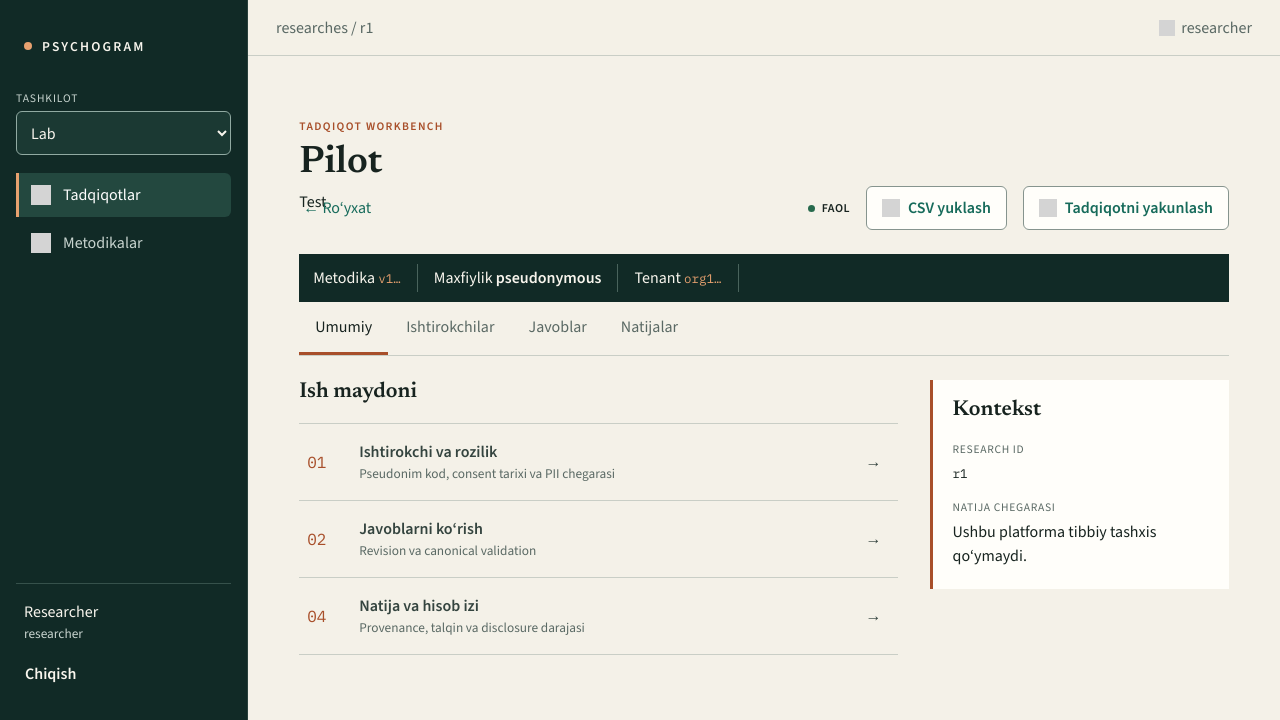
Test: research lifecycle › shows how many responses are uncalculated and closes only on explicit confirmation
Click the button "Tadqiqotni yakunlash": (1126, 208) [1023,186,1229,230]
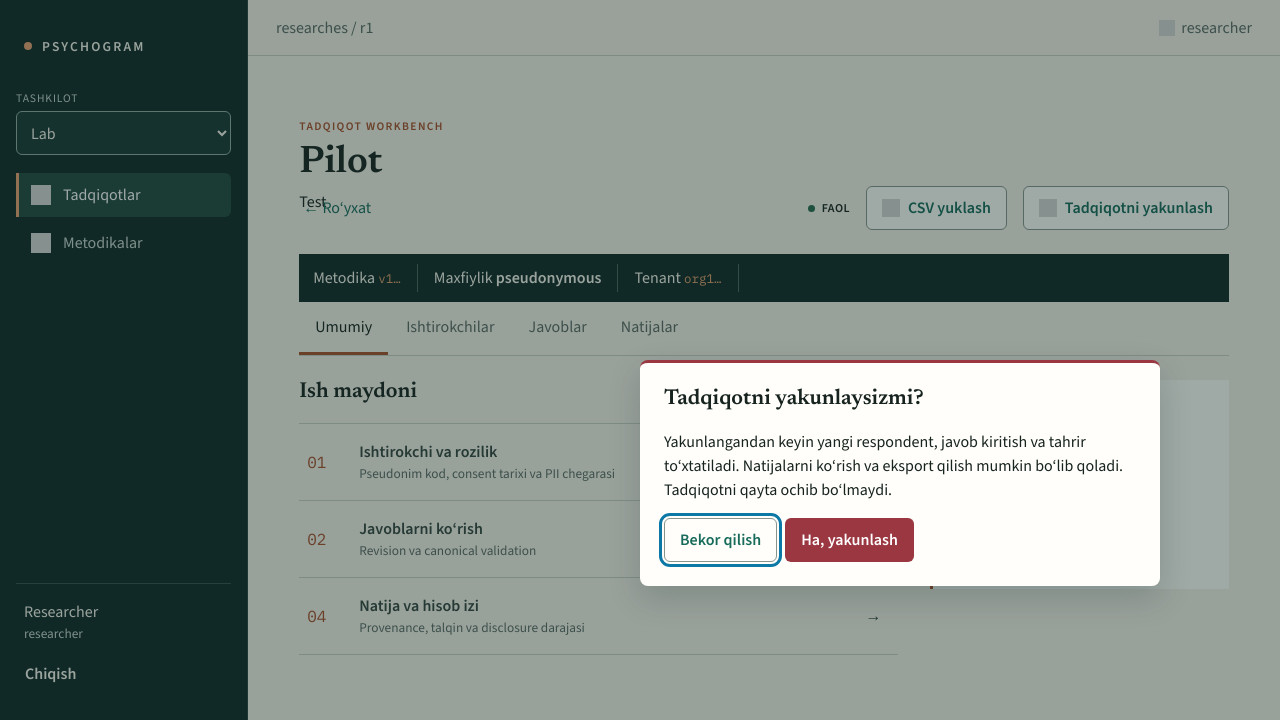
Click the button "Ha, yakunlash": (850, 540) [785,518,914,562]
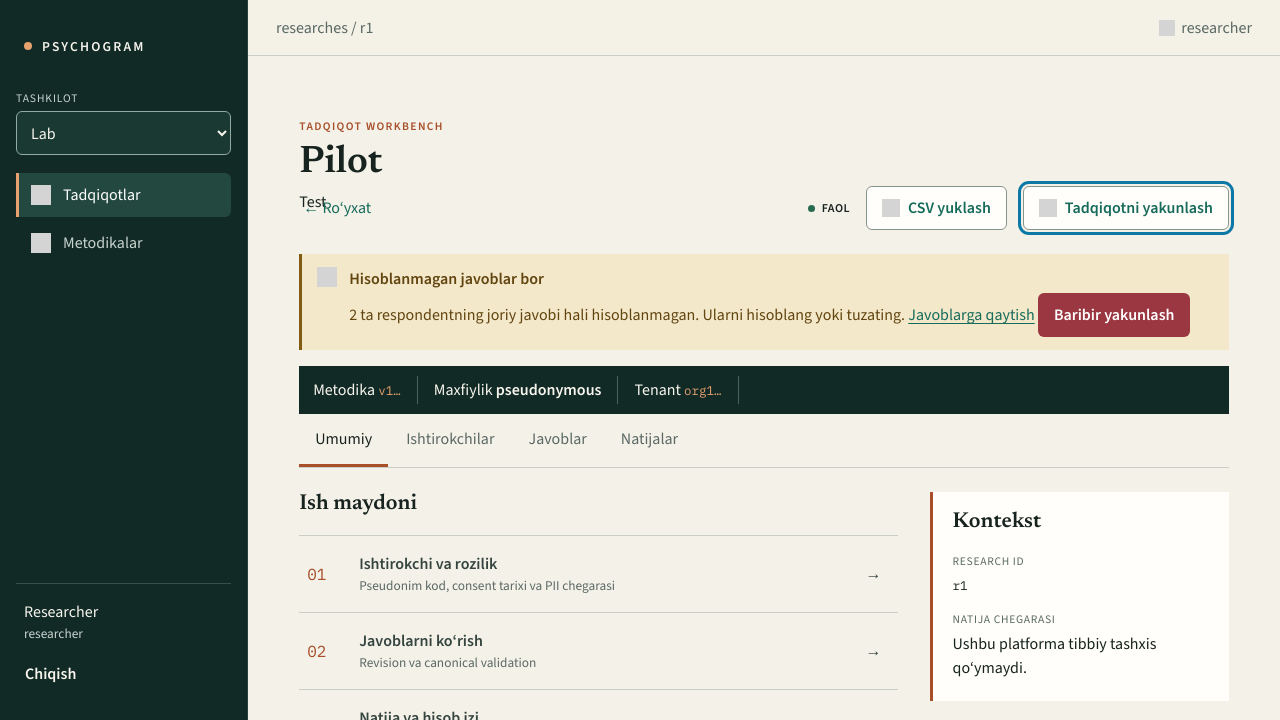
Expected: the text "2 ta respondentning joriy javobi hali hisoblanmagan" is shown, [349,293,1190,337]
Click the button "Baribir yakunlash": (1114, 315) [1038,293,1190,337]
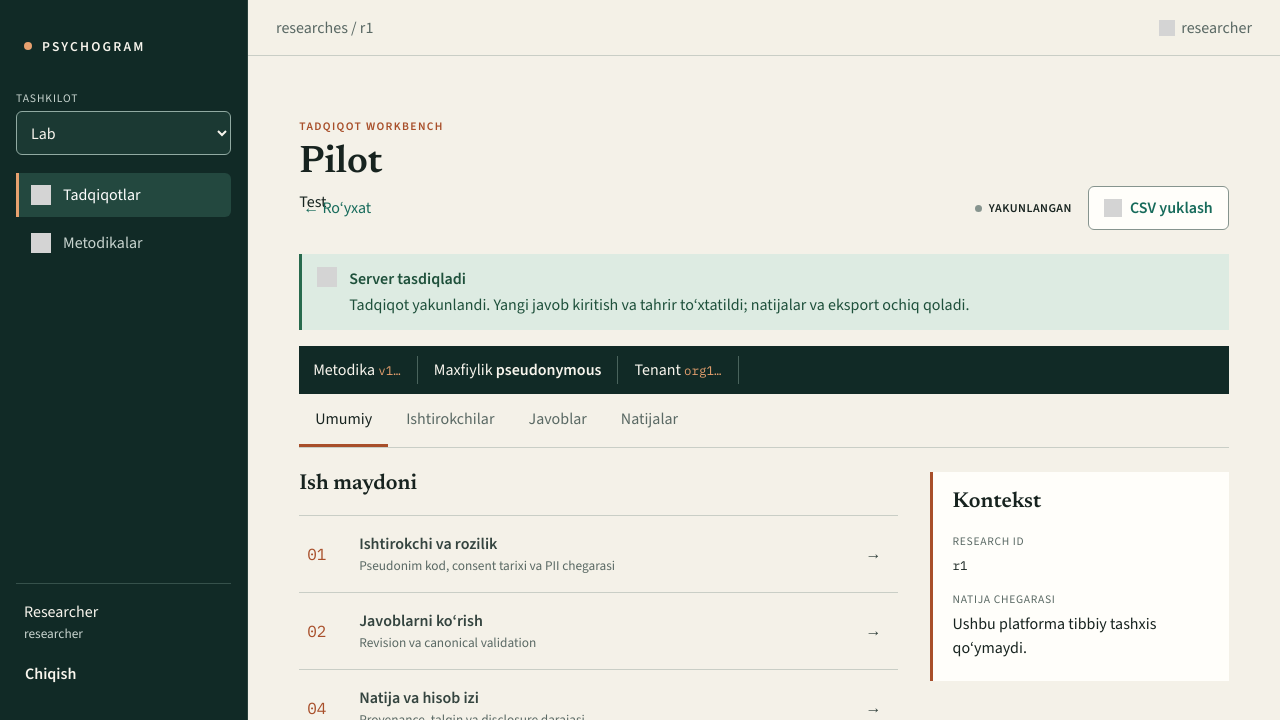
Expected: the text "Tadqiqot yakunlandi" is shown, [349,294,970,315]
